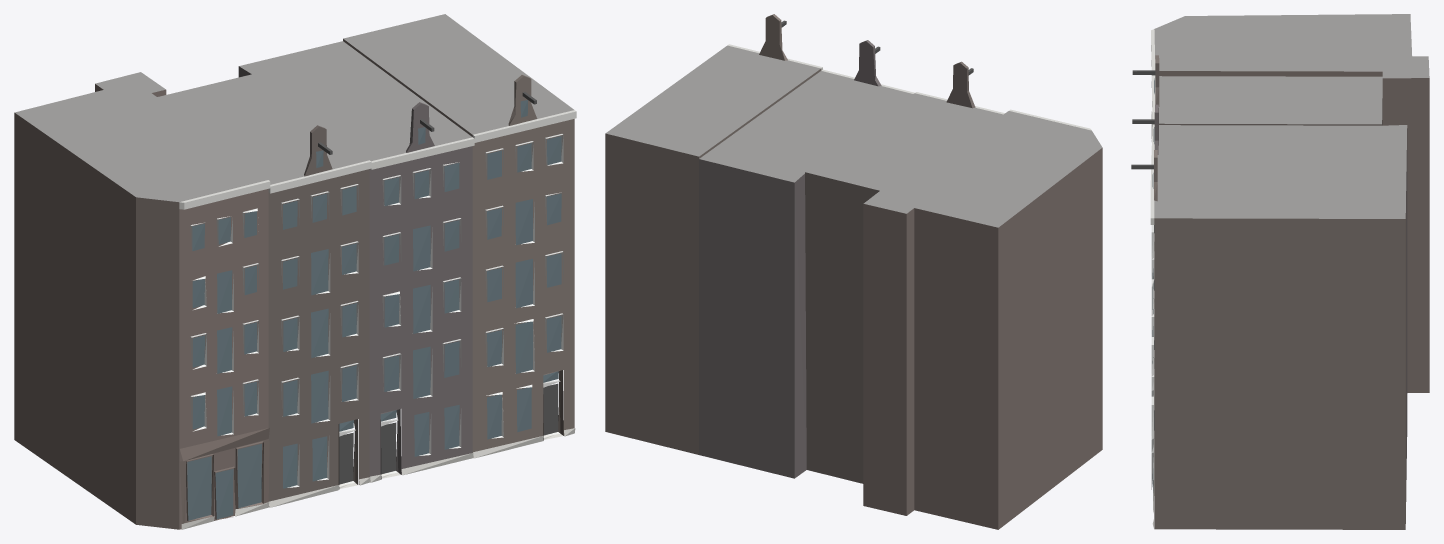
File: chunk-face-hasebroek-1-41-r1.lod2.glb
3 renders of one model, left to right at view 1: azimuth 30°, elevation 25°; view 2: azimuth 150°, elevation 25°; view 3: azimuth 270°, elevation 25°, orthographic. The views are drawn at different scales.
Visible parts, largest first — view 1: lod2; view 2: lod2; view 3: lod2.
Part boxes in pixels (x1,y1,x2,y2): lod2: (14,14,576,529); lod2: (605,14,1102,529); lod2: (1131,14,1429,529).
Size of the model in its own units: 22.74 by 18.76 by 14.25.
